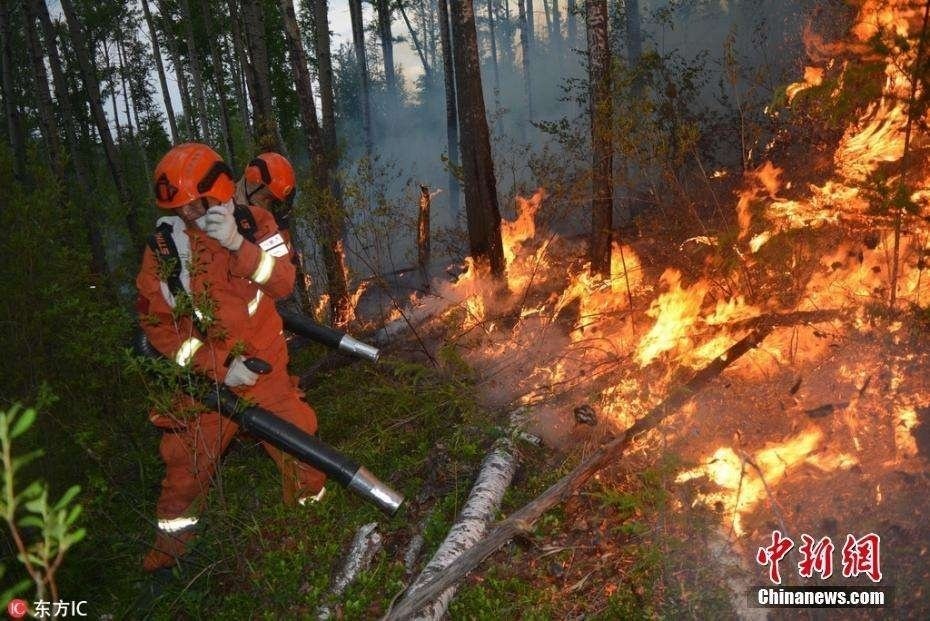fire: (425, 24, 930, 545), (312, 239, 391, 330)
